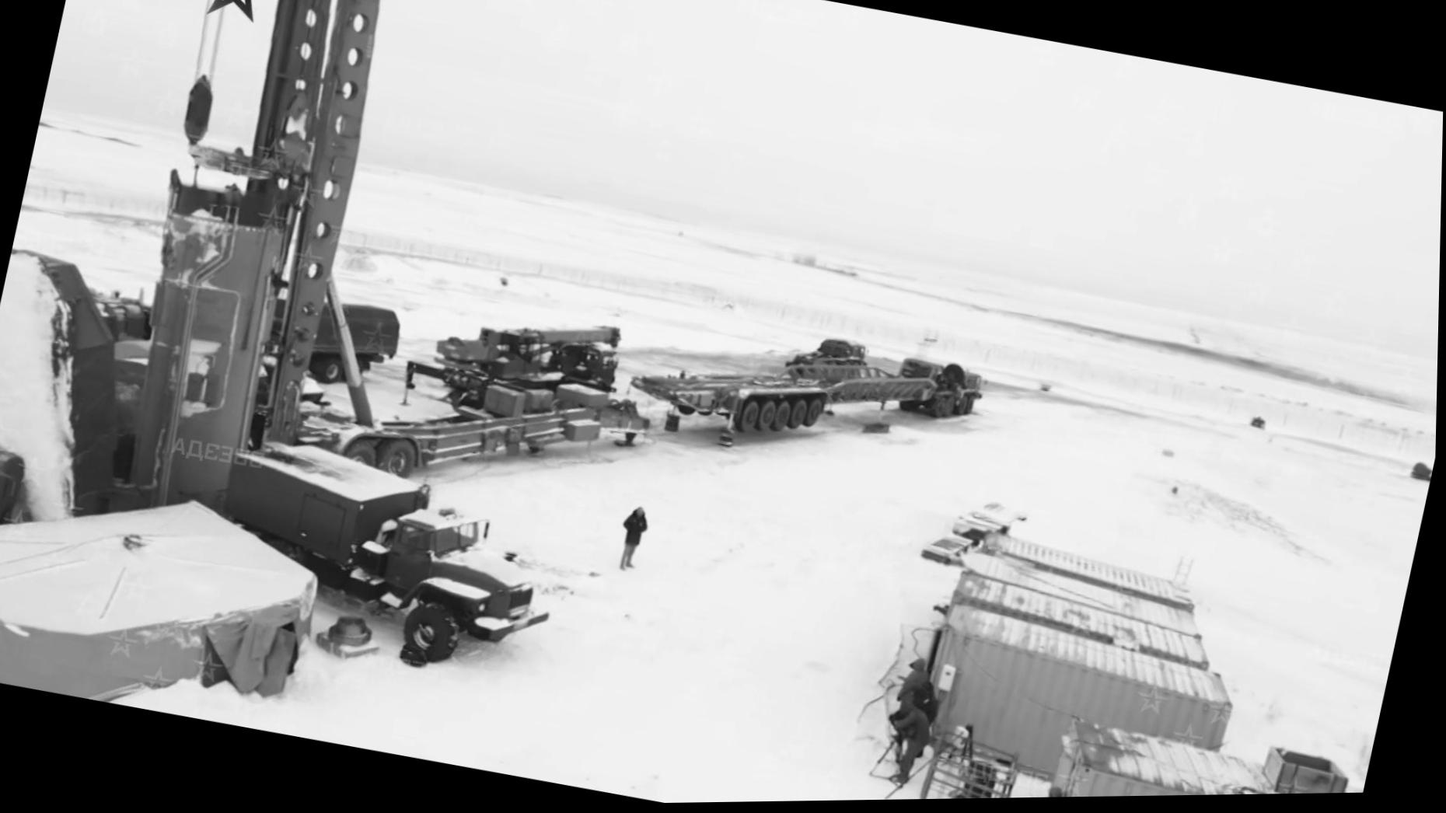person: (877, 688, 943, 792), (886, 646, 935, 718), (613, 502, 653, 573), (1009, 777, 1080, 798)
truck: (193, 425, 581, 689)
